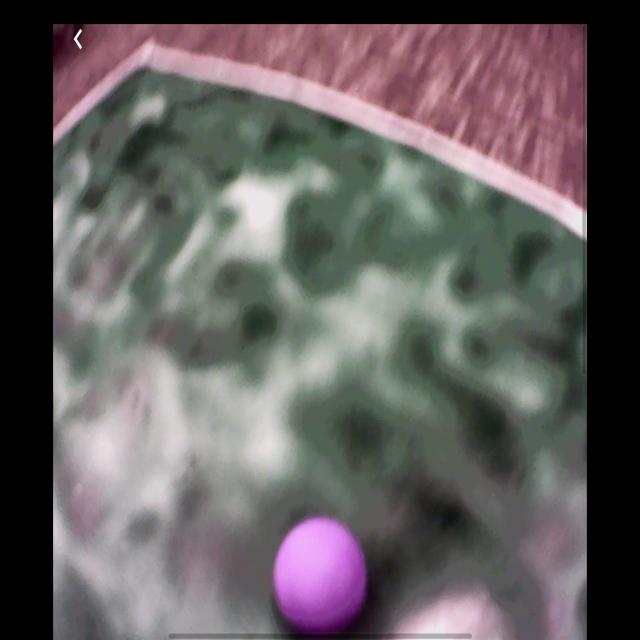ball: (272, 515, 369, 635)
